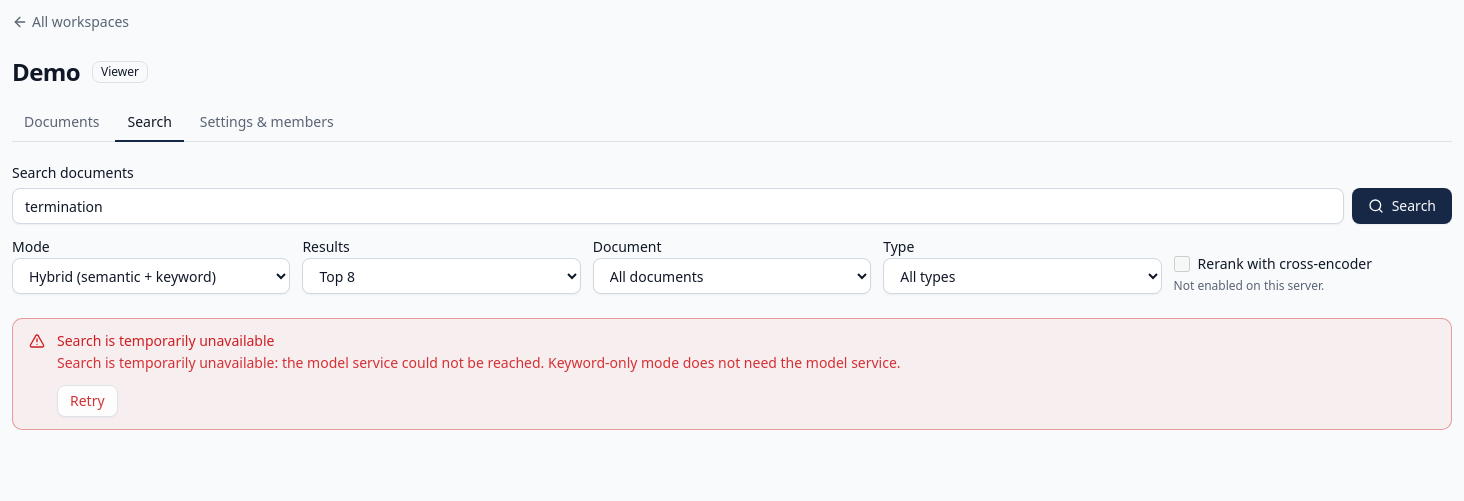
Test: WorkspaceSearch › explains an unavailable model service and retries
This screenshot has width=1464, height=501.
Expected: the text "Search is temporarily unavailable" is shown, [57,331,274,350]
Expected: the text "Keyword-only mode does not need the model service" is shown, [544,353,901,372]
Step 1. Click the button "Retry" → coordinates (87, 401), box [57,385,118,417]
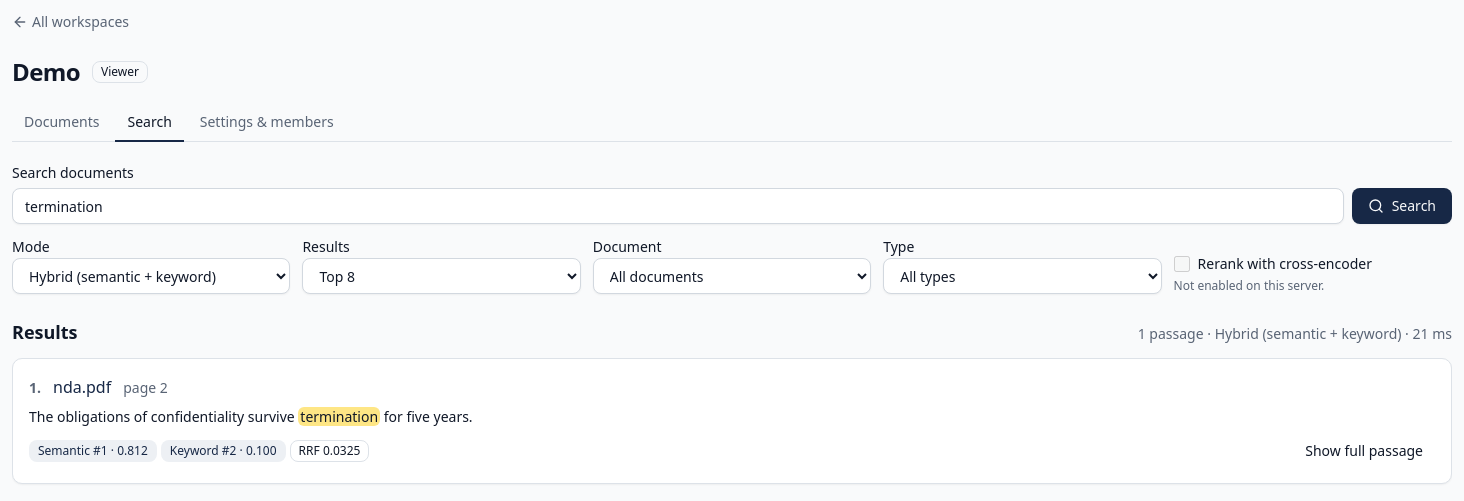
Expected: the number of list items with test id "search-result" is 1, [12,358,1452,484]
